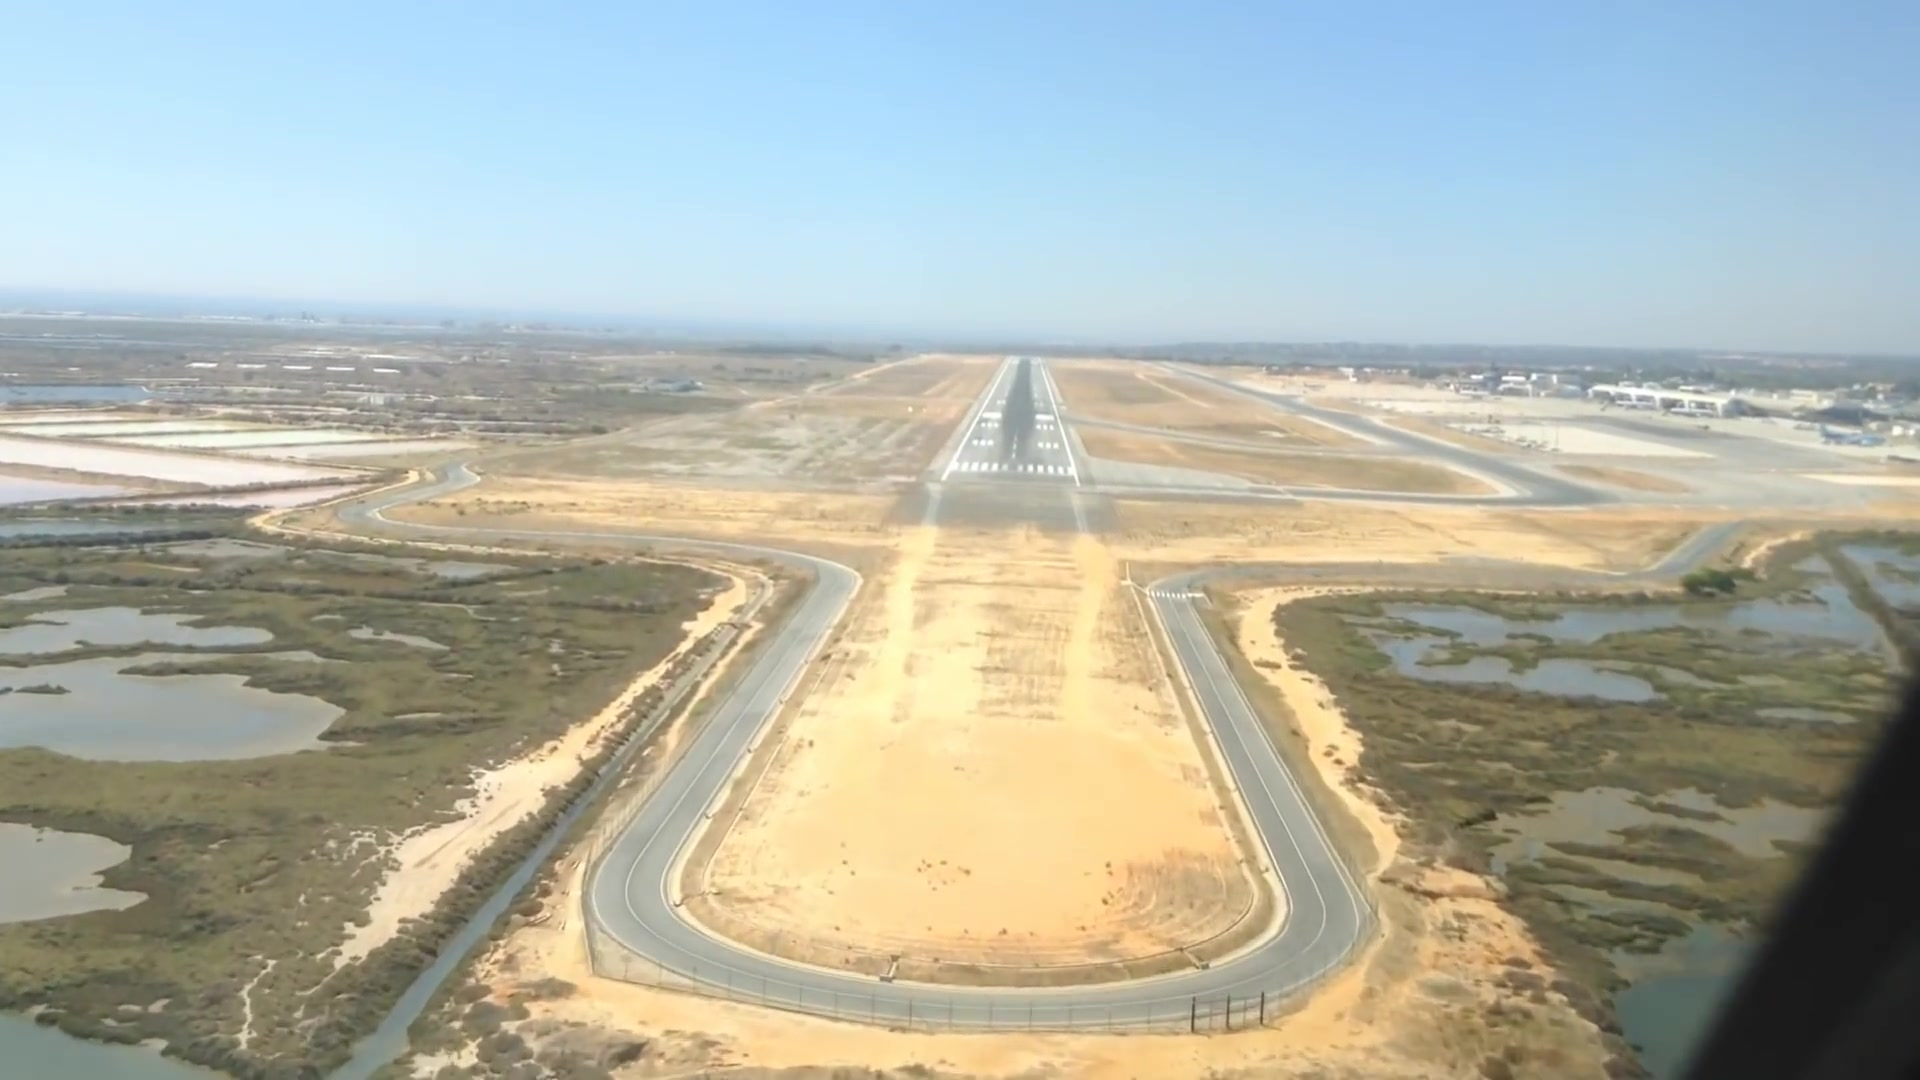entrance: (945, 458, 1076, 480)
runway: (939, 355, 1081, 487)
